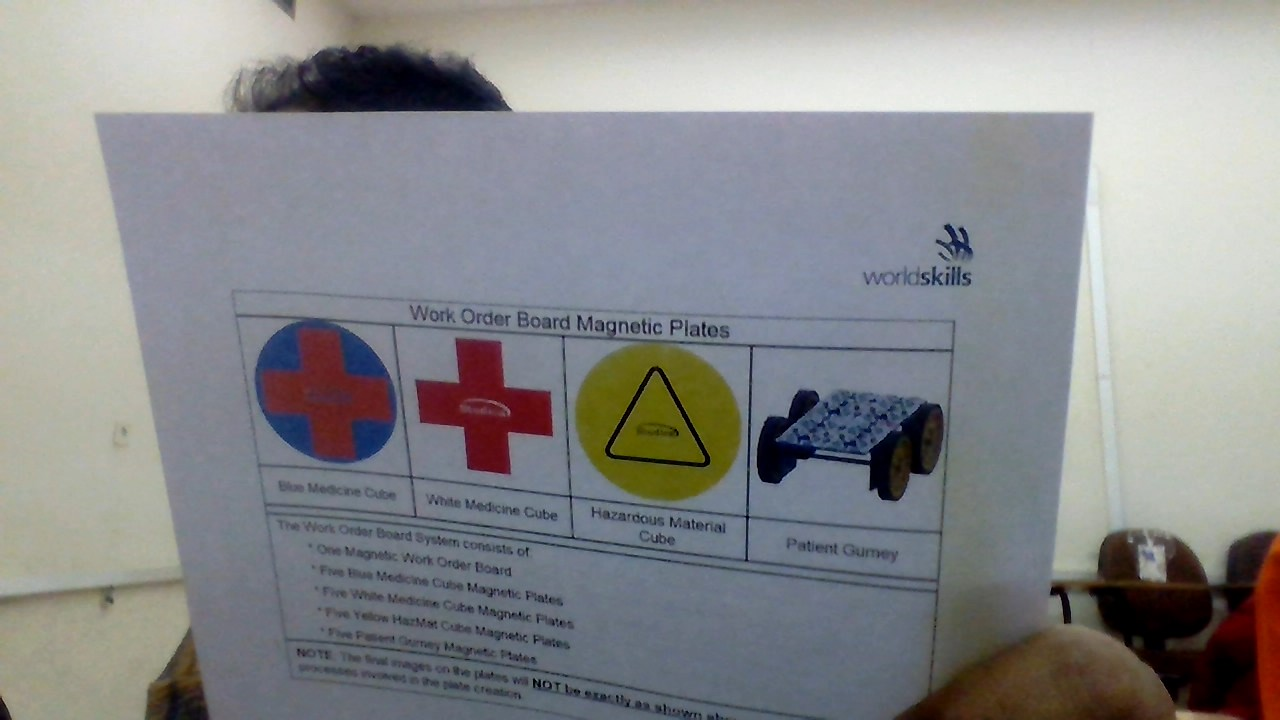bmc: (237, 315, 408, 472)
hmc: (574, 347, 747, 497)
pg: (750, 354, 948, 508)
wmc: (415, 333, 562, 485)
